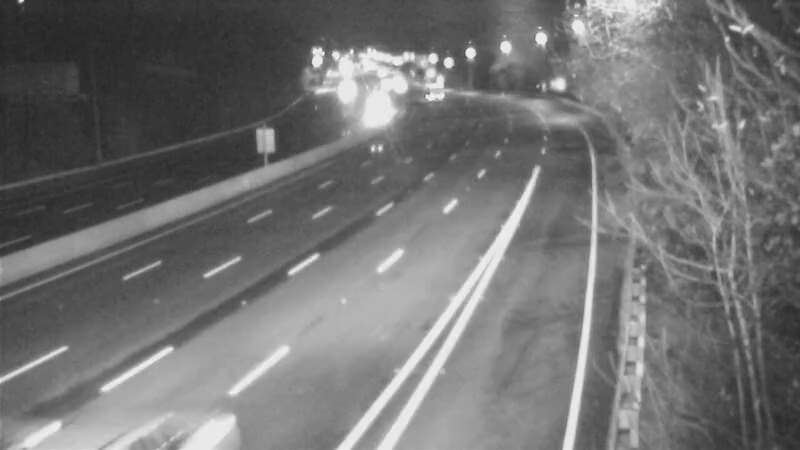vehicle: (411, 69, 461, 119), (354, 88, 404, 138), (323, 57, 373, 107)
